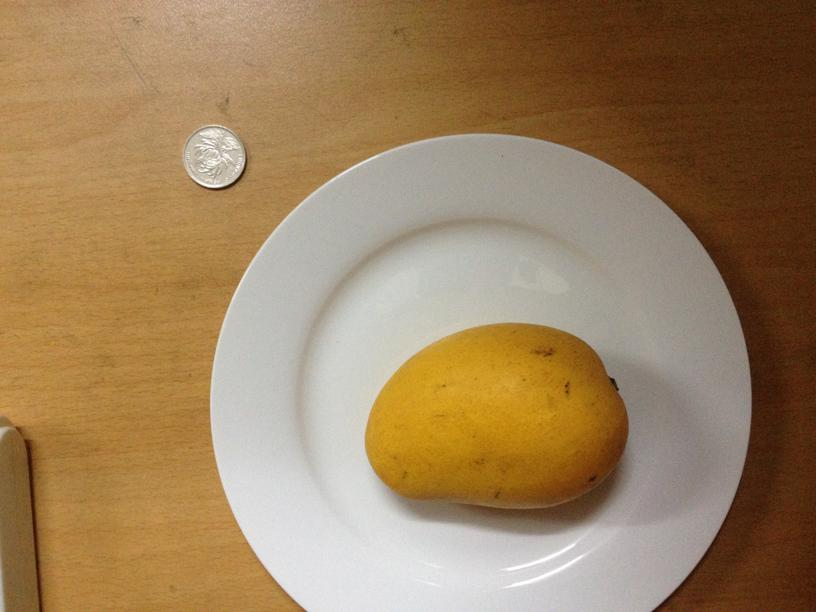coin: (182, 124, 246, 189)
mango: (366, 328, 626, 512)
